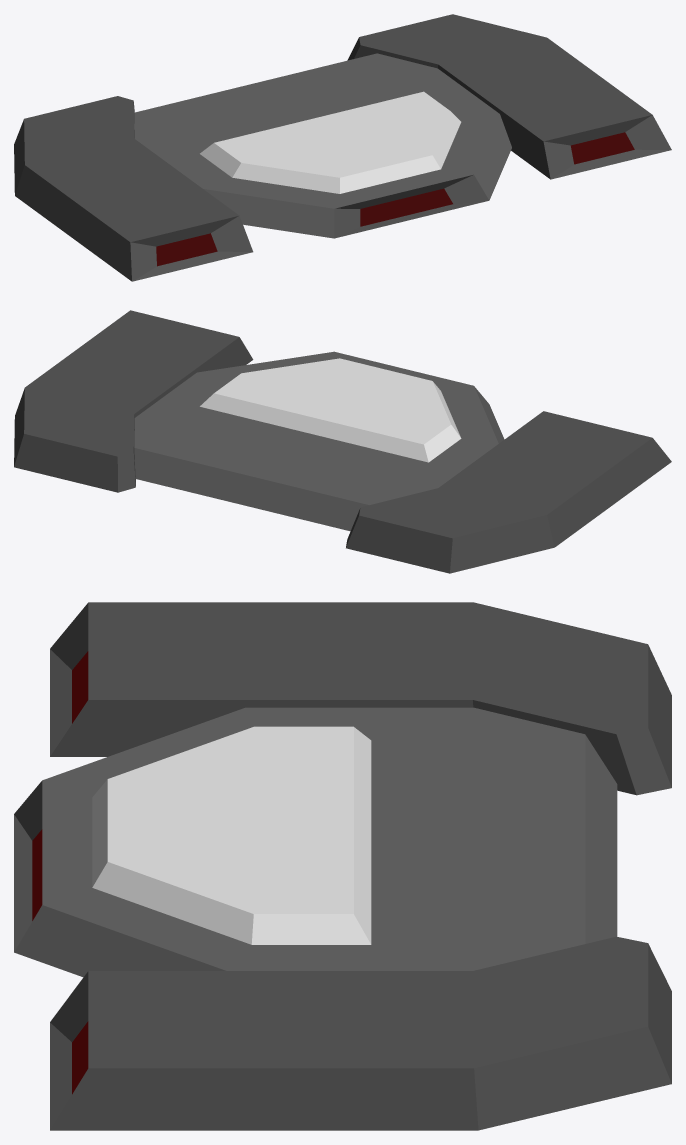
Rendered from boss2.glb.
3 views of the same model, one above another, from view 1: azimuth 30°, elevation 25°; view 2: azimuth 150°, elevation 25°; view 3: azimuth 270°, elevation 25° (orthographic). The views are drawn at different scales.
Parts seen in each view (by area): view 1: main, left cannon.001, left cannon, glass; view 2: main, left cannon.001, left cannon, glass; view 3: left cannon, main, left cannon.001, glass.
Boxes of the visible parts, box(x1,y1,x2,y2) form: main: box(134, 53, 511, 238); left cannon.001: box(14, 96, 253, 281); left cannon: box(347, 14, 671, 179); glass: box(200, 91, 461, 193); main: box(134, 351, 504, 531); left cannon.001: box(346, 411, 671, 573); left cannon: box(14, 310, 253, 492); glass: box(200, 358, 461, 462); left cannon: box(50, 936, 671, 1130); main: box(14, 707, 617, 977); left cannon.001: box(50, 602, 671, 795); glass: box(92, 726, 371, 944).
Bounding box in the file's own units: 4.57 × 0.3064 × 2.64.
